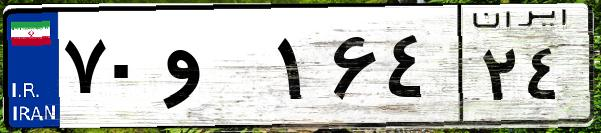0: (110, 28, 158, 98)
1: (270, 28, 330, 110)
2: (475, 38, 525, 113)
4: (385, 28, 445, 110), (525, 38, 570, 115)
6: (330, 28, 385, 110)
7: (57, 26, 110, 100)
و: (158, 20, 270, 120)
